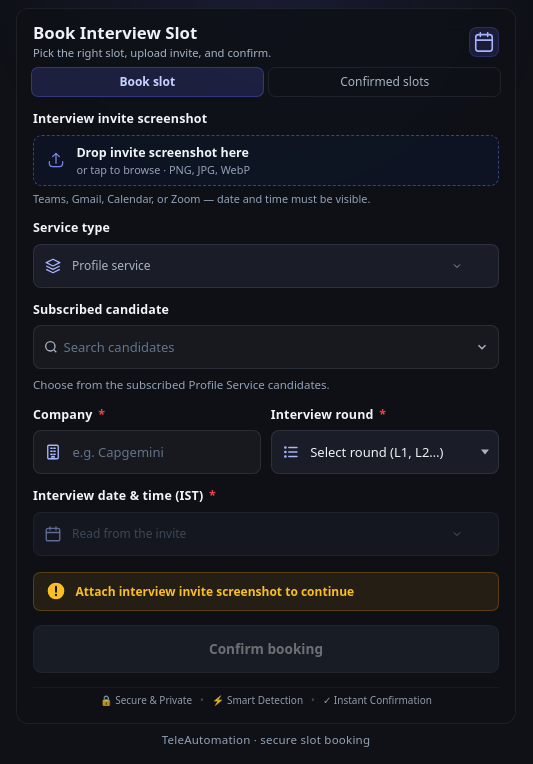
Test: the client is chosen from the subscribed list › lists the subscribed candidates, with their technology
Expected: the text with class "sbs-label" reads "Subscribed candidate", [33, 301, 169, 318]
Focus the field labelled "Profile Service candidate" at (266, 347), box [33, 325, 499, 369]
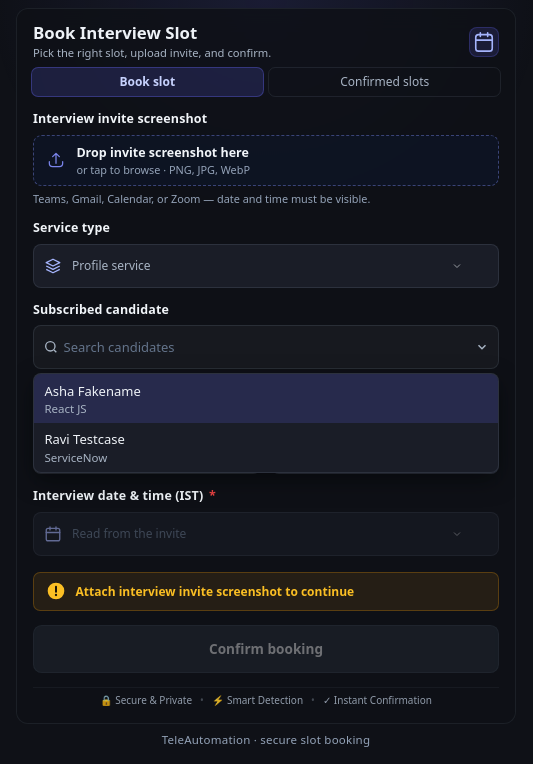
Expected: the options read "Asha FakenameReact JS", "Ravi TestcaseServiceNow", in this order, [34, 374, 498, 423]; [34, 423, 498, 472]
